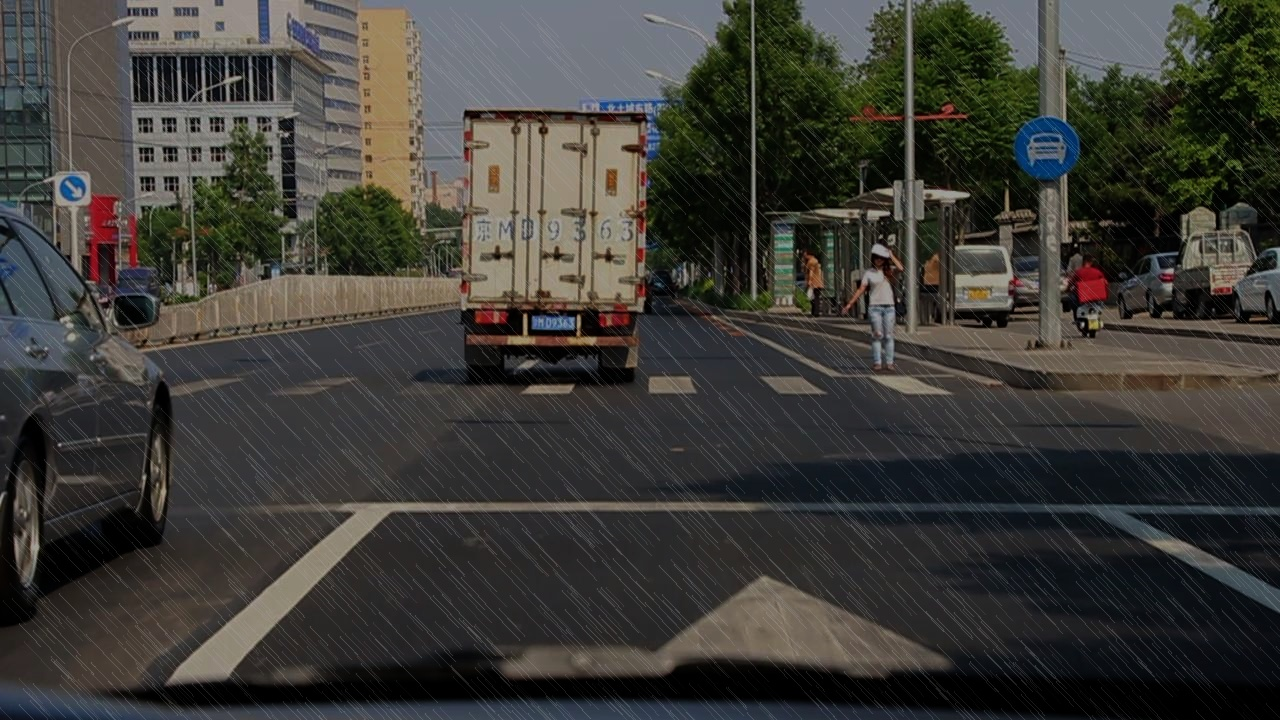Informative Signs: (1011, 114, 1083, 184), (58, 174, 89, 204)
